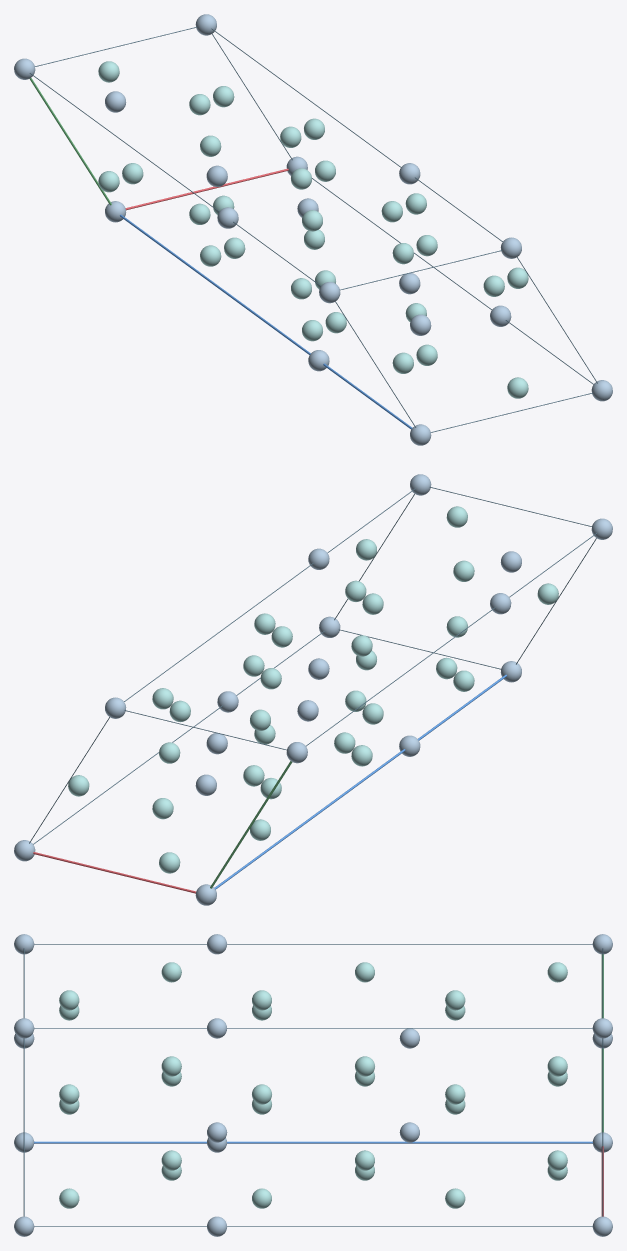
Rendered from chat-chromium-bromide.glb.
The picture shows the model from 3 angles, top to bottom: view 1: azimuth 30°, elevation 25°; view 2: azimuth 150°, elevation 25°; view 3: azimuth 270°, elevation 25°; orthographic projection. The views are drawn at different scales.
Parts seen in each view (by area): view 1: Ô mạng và các trục a, b, c; view 2: Ô mạng và các trục a, b, c; view 3: Ô mạng và các trục a, b, c.
Part boxes in pixels (x1,y1,x2,y2): Ô mạng và các trục a, b, c: [29, 27, 597, 432]; Ô mạng và các trục a, b, c: [29, 487, 597, 893]; Ô mạng và các trục a, b, c: [23, 944, 603, 1226].
Bounding box in the file's own units: 10.03 × 6.06 × 18.84.
